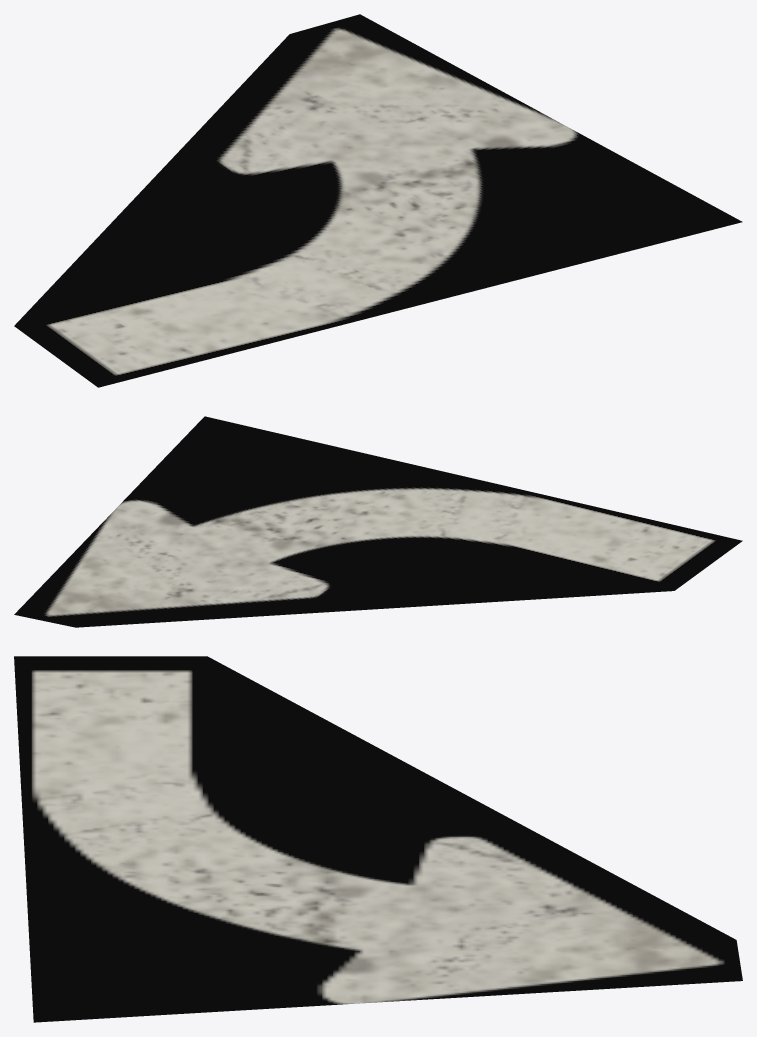
File: DECAL_Ground_Arrow_00.fbx
3 views of the same model, one above another, from view 1: azimuth 30°, elevation 25°; view 2: azimuth 150°, elevation 25°; view 3: azimuth 270°, elevation 25° (orthographic). The views are drawn at different scales.
Parts seen in each view (by area): view 1: DECAL_Ground_Arrow_00; view 2: DECAL_Ground_Arrow_00; view 3: DECAL_Ground_Arrow_00.
Boxes of the visible parts, x1,y1,x2,y2 form: DECAL_Ground_Arrow_00: [14, 14, 742, 387]; DECAL_Ground_Arrow_00: [14, 416, 742, 627]; DECAL_Ground_Arrow_00: [14, 656, 742, 1022].
Size of the model in its own units: 150 by 1.1e-05 by 126.
Materials: 1 (1 with a texture image).
